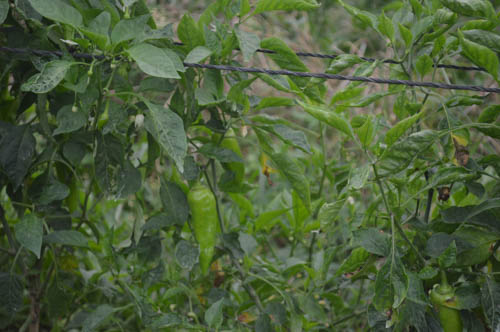ChiliPepper: (189, 189, 220, 271), (431, 286, 462, 329)
